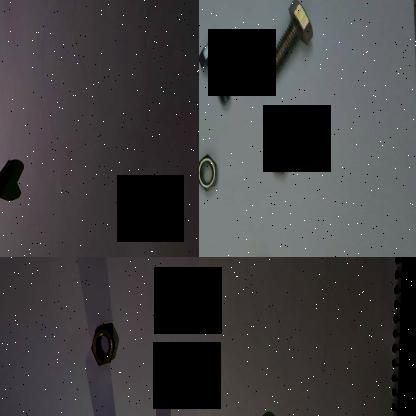Bolts: (260, 0, 318, 82), (199, 24, 236, 108), (0, 156, 14, 203)
NUTS: (266, 132, 294, 182), (90, 320, 116, 367), (199, 143, 220, 193)
